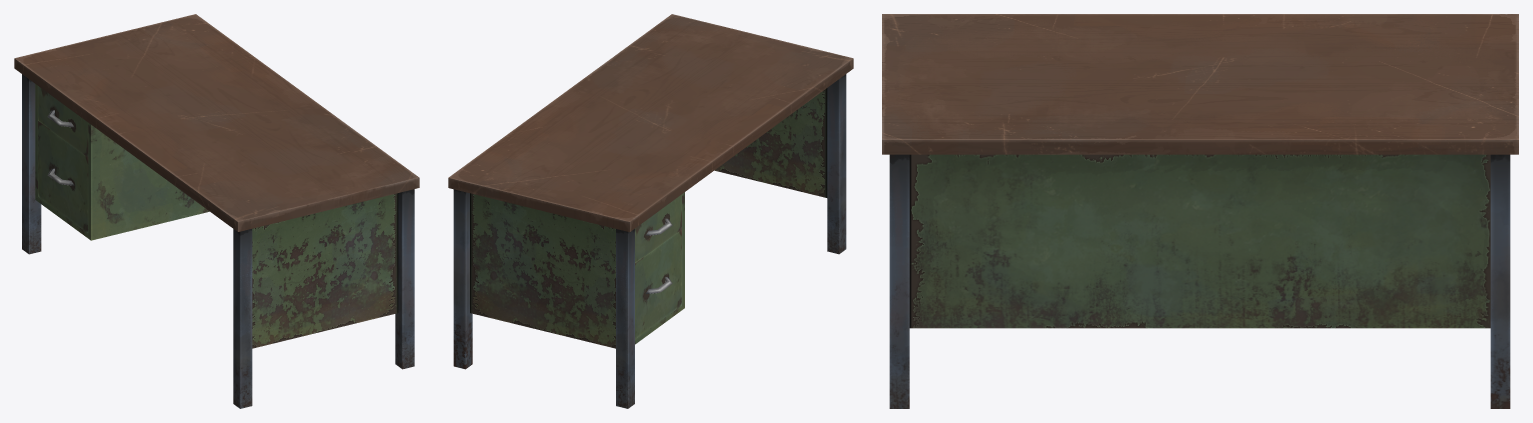
Rendered from desk01_C.FBX.
The picture shows the model from 3 angles, left to right: view 1: azimuth 30°, elevation 25°; view 2: azimuth 150°, elevation 25°; view 3: azimuth 270°, elevation 25°; orthographic projection. The views are drawn at different scales.
Parts seen in each view (by area): view 1: desk01_C, desk01_C_drawer01, desk01_C_drawer02; view 2: desk01_C, desk01_C_drawer01, desk01_C_drawer02; view 3: desk01_C.
Boxes of the visible parts, <box> form: desk01_C: <box>14,14,419,408</box>; desk01_C_drawer01: <box>38,121,88,232</box>; desk01_C_drawer02: <box>38,86,88,156</box>; desk01_C: <box>448,14,853,408</box>; desk01_C_drawer01: <box>635,229,681,339</box>; desk01_C_drawer02: <box>635,194,681,263</box>; desk01_C: <box>882,14,1518,408</box>.
Bounding box in the file's own units: 75 × 75 × 160.
